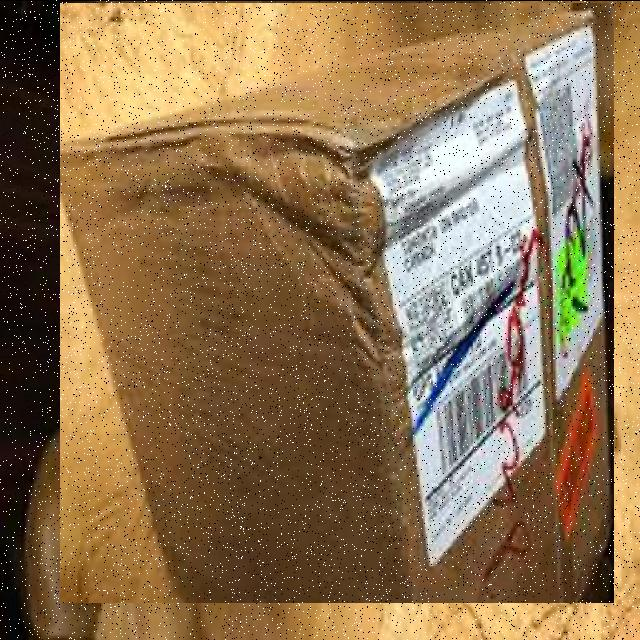normal: (60, 1, 614, 602)
